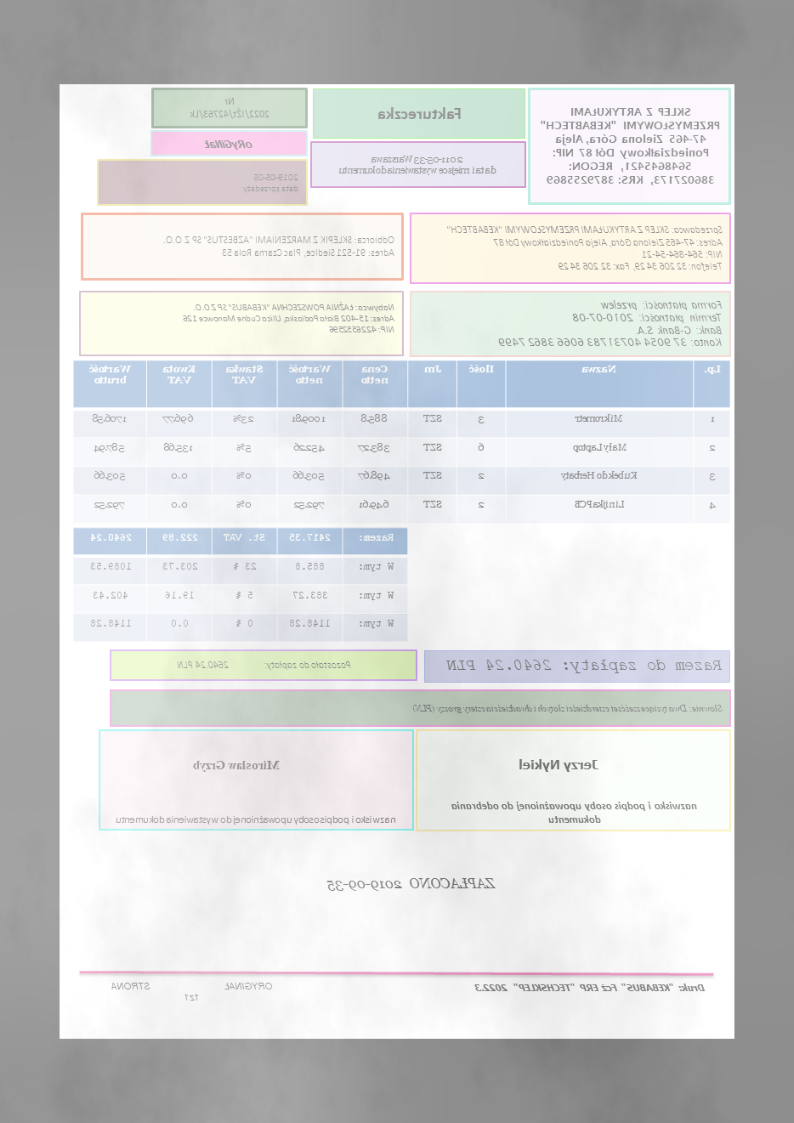Table: (71, 359, 733, 523), (72, 526, 409, 642)
TextBox: (538, 104, 723, 186), (446, 223, 726, 274), (497, 298, 726, 349), (182, 300, 398, 335), (162, 232, 397, 258), (445, 656, 724, 673), (411, 702, 725, 717), (336, 151, 499, 177), (109, 980, 275, 1002), (474, 980, 706, 994), (326, 875, 499, 893), (176, 658, 354, 672), (187, 94, 271, 121), (240, 171, 301, 196), (377, 105, 465, 122), (517, 757, 602, 774), (192, 758, 281, 773), (201, 136, 256, 151)
